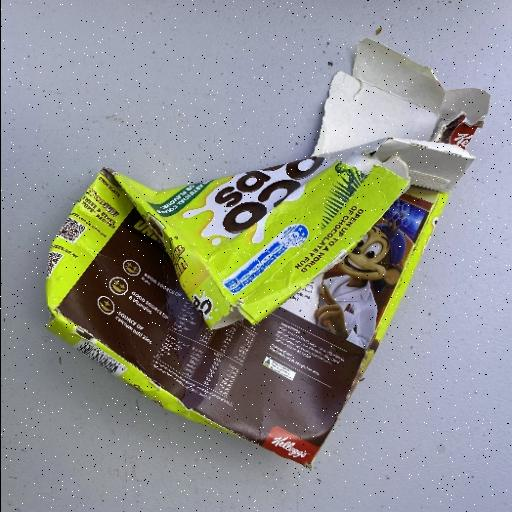Cardboard: (41, 37, 491, 469)
